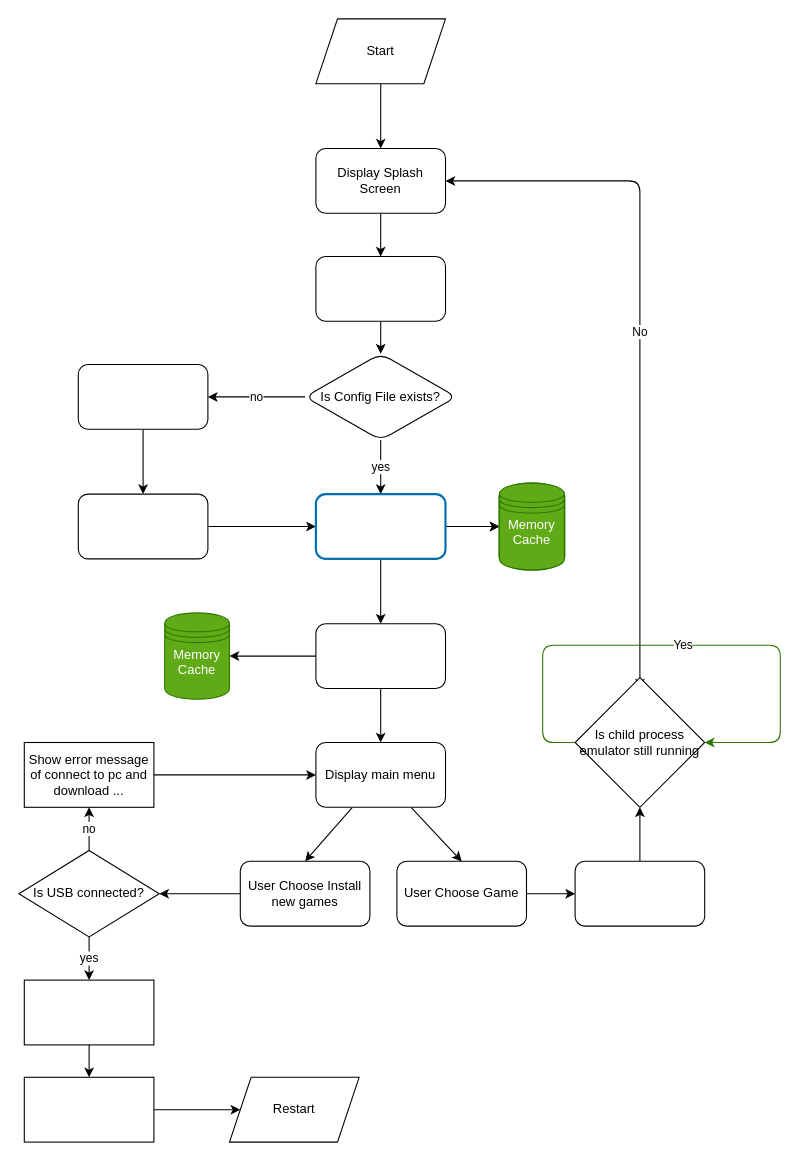
Some shapes in this 808 by 1161 pixel diagram are drawn without their labels. Here are the shapes that lost their labels. From the top down, the box of each, then its label:
(315, 255, 446, 321): Load Config file
(77, 363, 208, 429): Create Config File
(77, 493, 208, 559): Show system tutorial
(315, 623, 446, 688): Load Games details and images
(574, 860, 705, 926): Loading Game and emulator as child process
(23, 979, 154, 1045): Openning a socket
(23, 1076, 154, 1142): Running communication between the system and the pc
